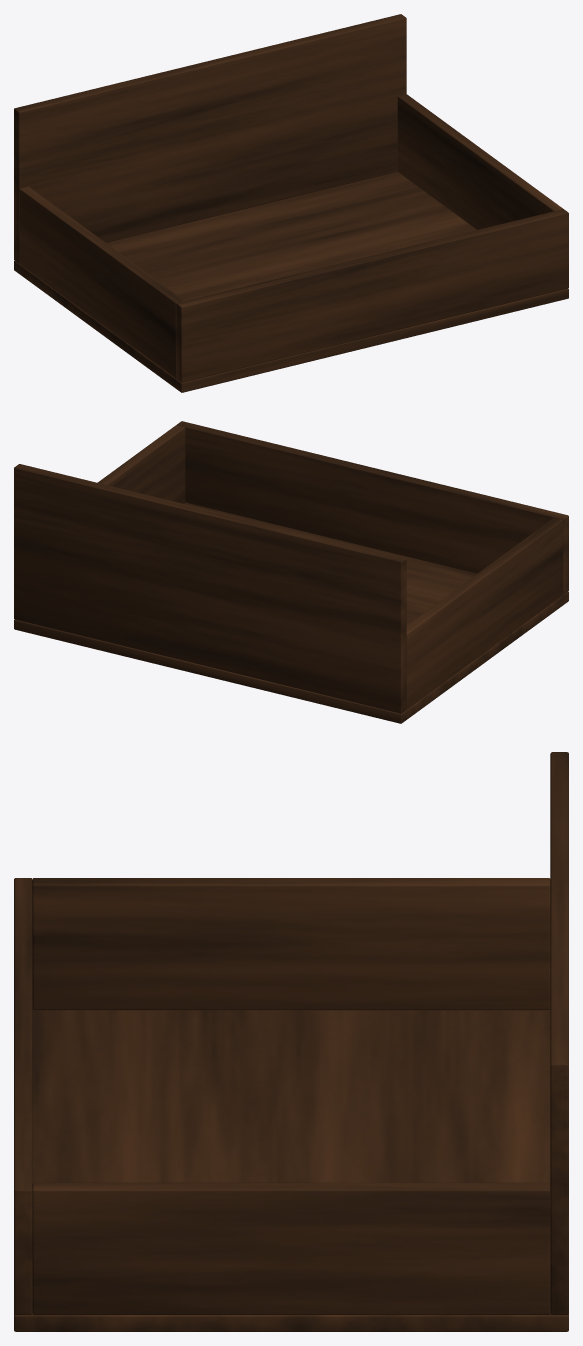
3 renders of one model, top to bottom at view 1: azimuth 30°, elevation 25°; view 2: azimuth 150°, elevation 25°; view 3: azimuth 270°, elevation 25°, orthographic. The views are drawn at different scales.
Visible parts, largest first — view 1: back_panel, front_panel, bottom_panel, side_walls; view 2: back_panel, front_panel, side_walls, bottom_panel; view 3: side_walls, bottom_panel, back_panel, front_panel.
Part boxes in pixels (<box>): back_panel: <box>14,14,406,263</box>; front_panel: <box>176,209,568,382</box>; bottom_panel: <box>14,171,568,392</box>; side_walls: <box>19,94,562,378</box>; back_panel: <box>14,464,406,713</box>; front_panel: <box>176,421,568,594</box>; side_walls: <box>97,425,563,709</box>; bottom_panel: <box>14,502,568,723</box>; side_walls: <box>32,878,550,1314</box>; bottom_panel: <box>14,1009,568,1331</box>; back_panel: <box>550,752,568,1314</box>; front_panel: <box>14,878,32,1314</box>.
Bounding box in the file's own units: 0.8 × 0.32 × 0.6.
Materials: 4 (4 with a texture image).
